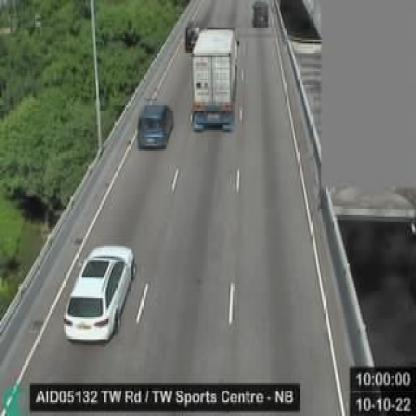Car: (63, 244, 134, 348), (138, 101, 174, 150), (254, 0, 269, 27)
Truck: (192, 29, 236, 127)
